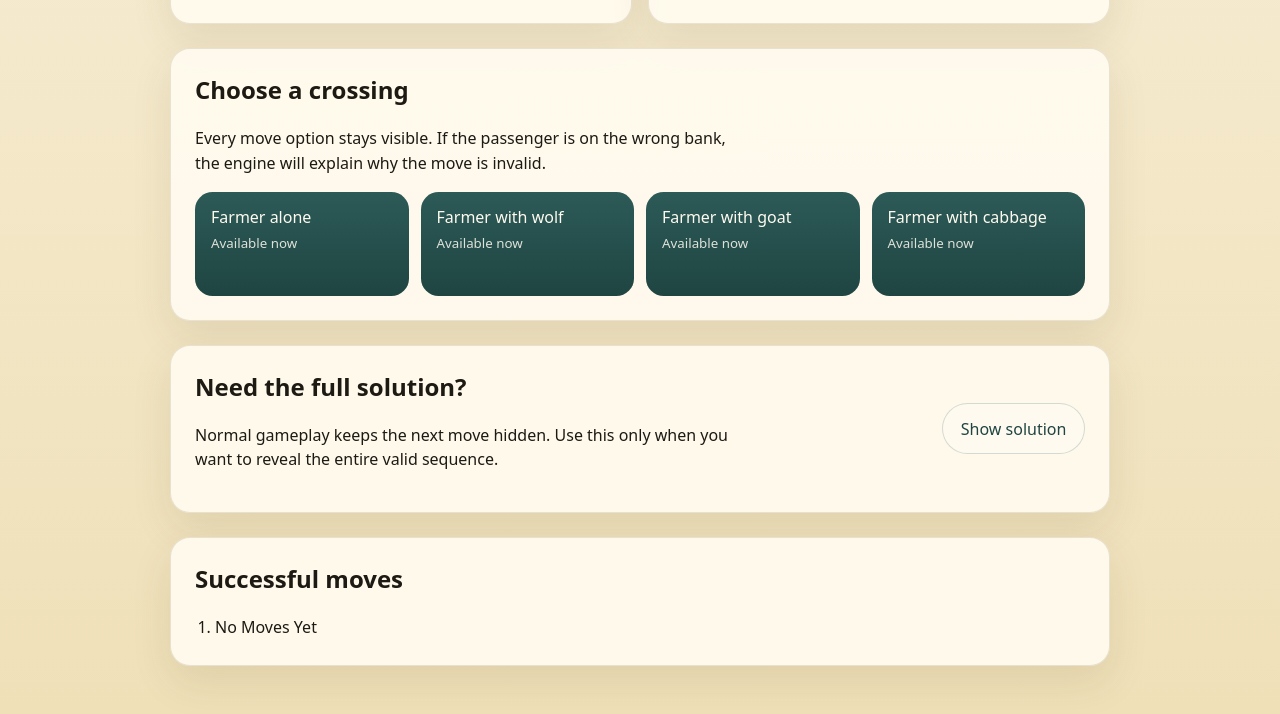
Test case: App browser gameplay flow › TC-US-02-3 / US-02 AC-3 presents a complete valid solution path on explicit request
The image size is (1280, 714).
(page scrolled)
Click the button "Show solution" at x=1014, y=429, box 942,403 -> 1085,454
(page scrolled)
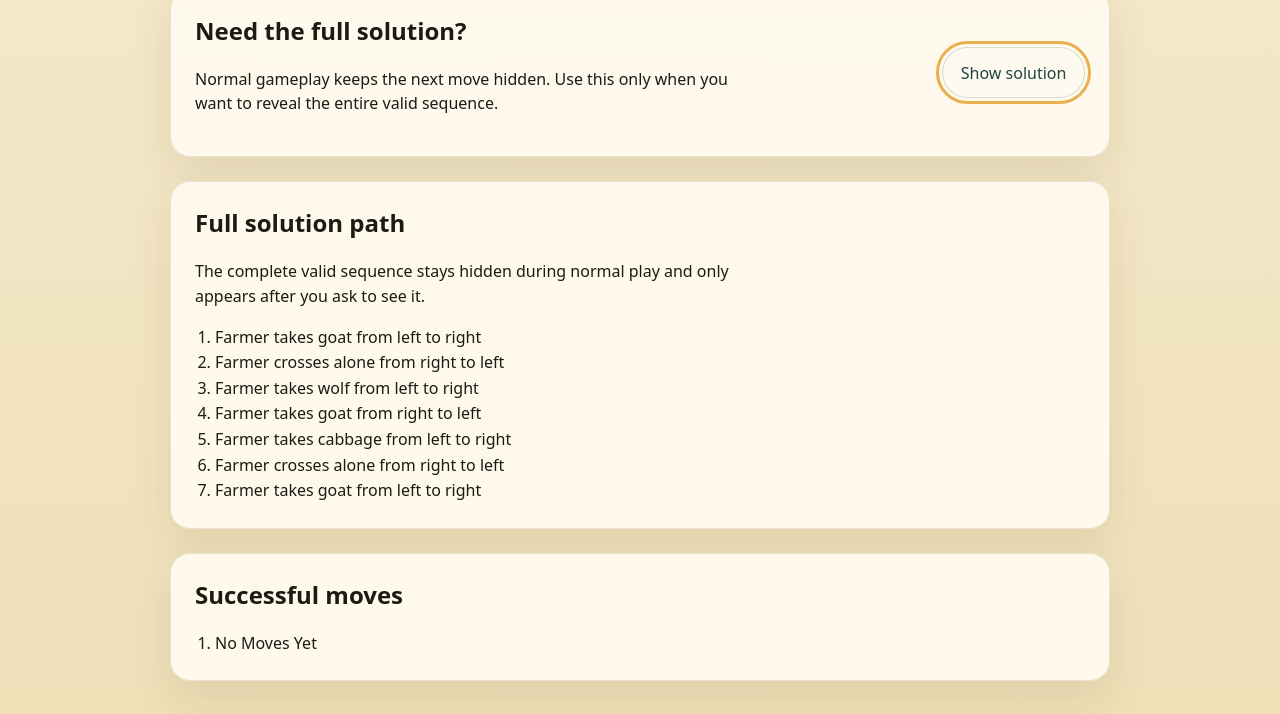
expect the element labelled "Full solution" is shown: met, box 170,181 -> 1110,529
expect the number of list items "Farmer takes goat from left to right" is 2: met, box 215,326 -> 481,348; 215,479 -> 481,501
